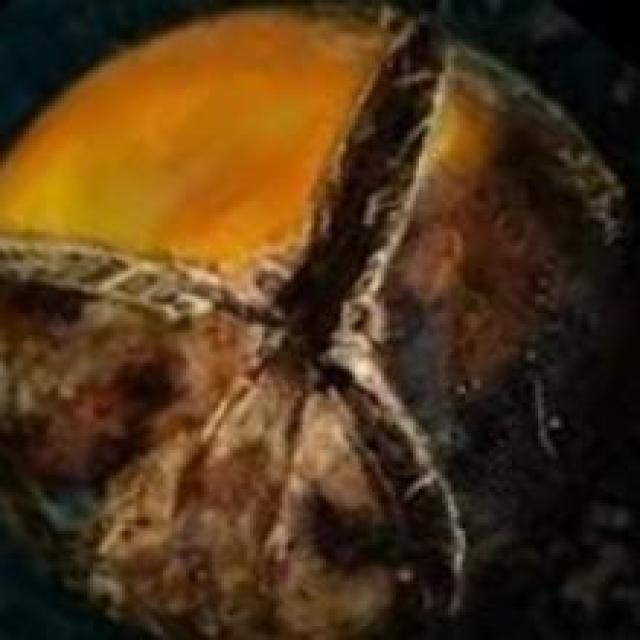damaged: (0, 0, 637, 637)
